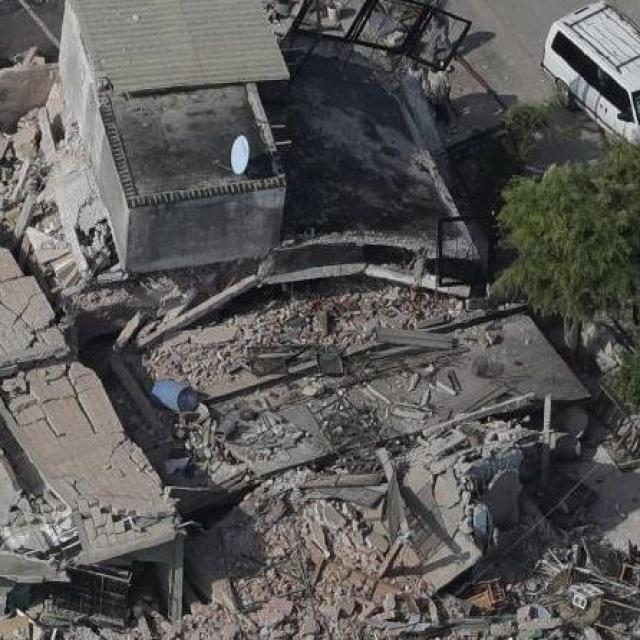collapsed_building: (61, 9, 490, 631)
